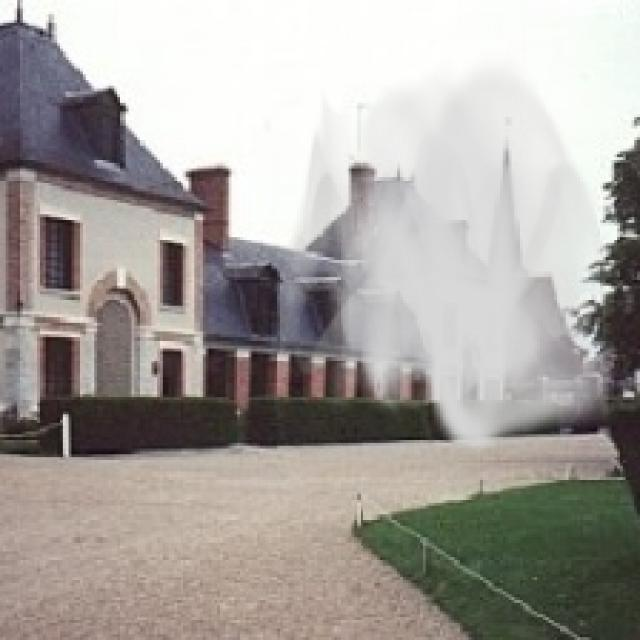Smoke: (266, 48, 620, 454)
